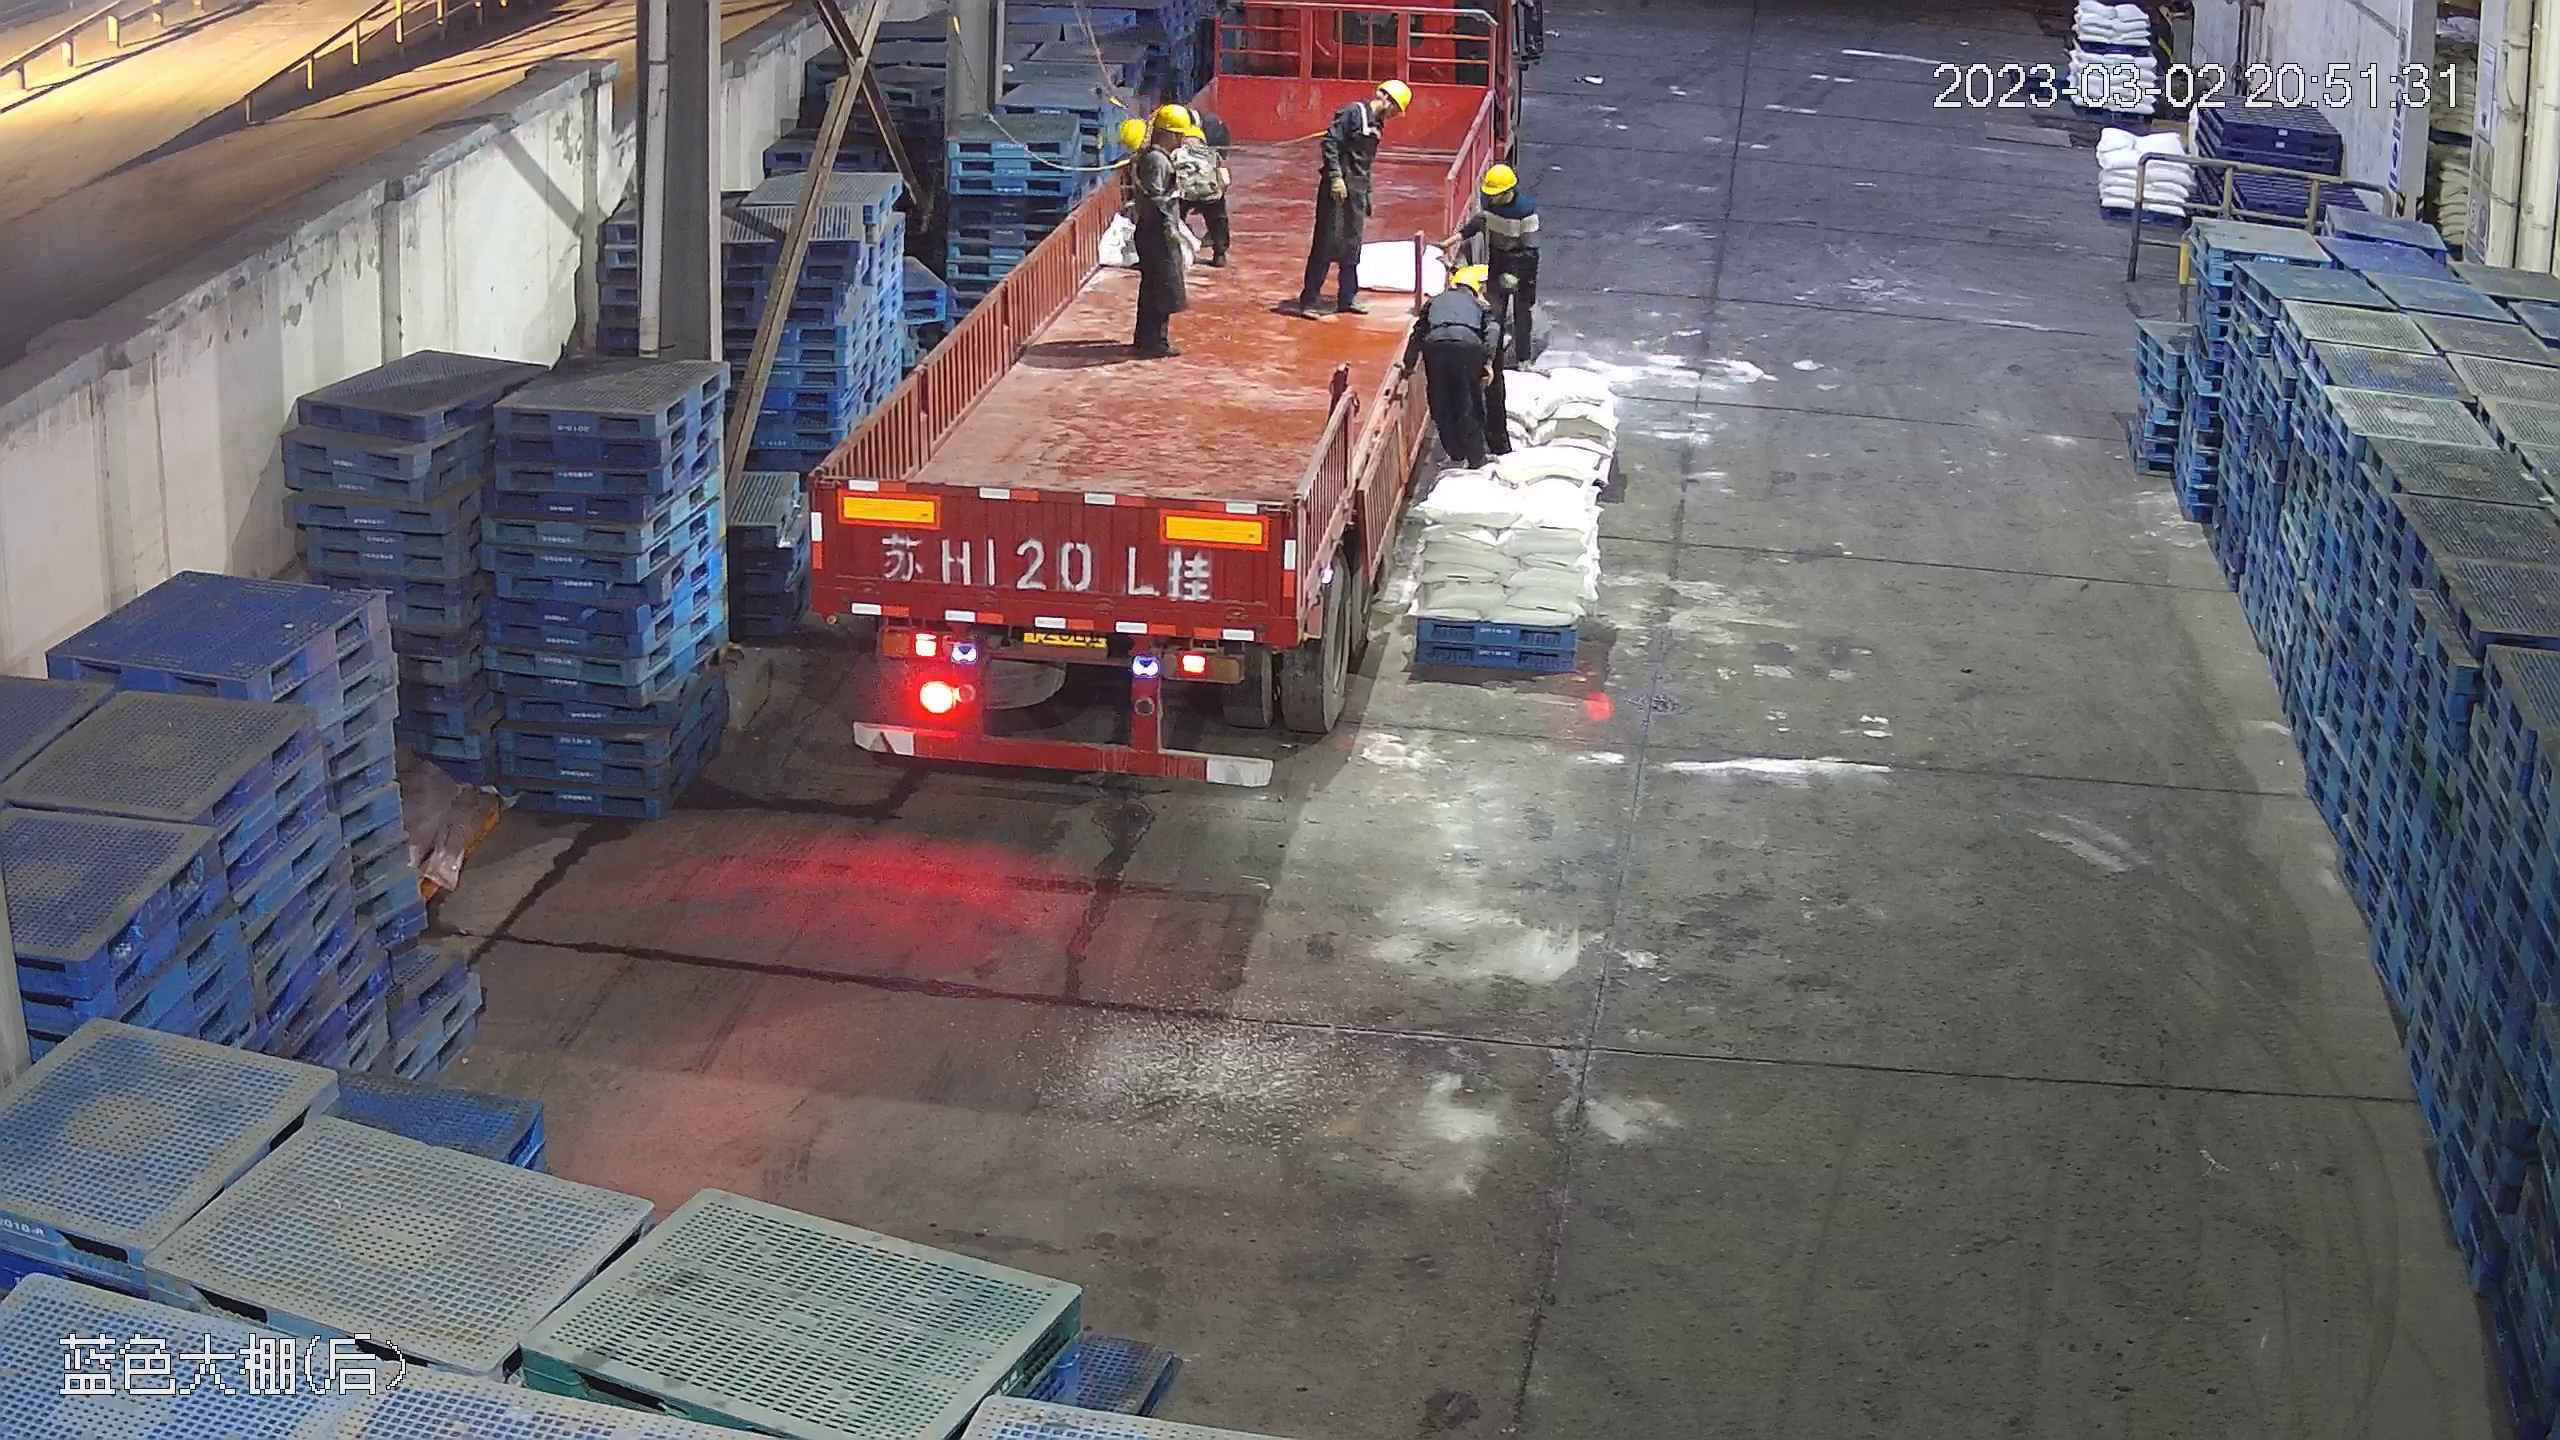belt: (1122, 150, 1164, 202), (1355, 101, 1386, 140), (1174, 142, 1203, 167)
head: (1110, 103, 1189, 191), (1325, 84, 1410, 156), (1428, 265, 1500, 337), (1466, 165, 1535, 236)
helmet: (1150, 105, 1197, 142), (1480, 164, 1516, 193), (1113, 115, 1147, 145), (1383, 83, 1412, 117), (1451, 266, 1482, 293)
people: (1286, 80, 1409, 312), (1105, 110, 1188, 354), (1457, 161, 1546, 386), (1419, 263, 1509, 468)
truck: (806, 24, 1512, 785)
